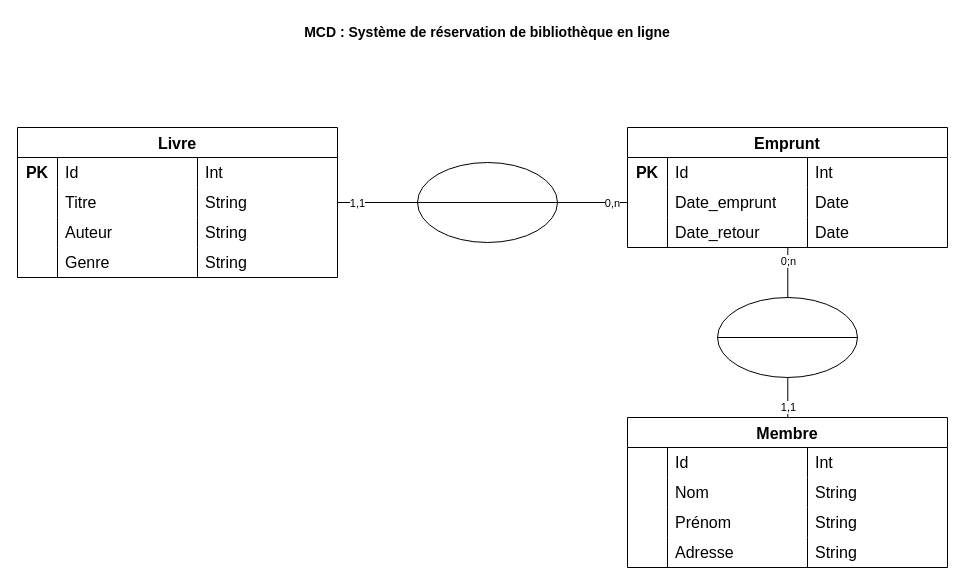
The diagram is 965 pixels wide and 585 high, and some of its shapes have lost their labels. Each missing label, with the centre of its shape:
"Concerner" goes at (x=487, y=202).
"Effectuer" goes at (x=787, y=337).
